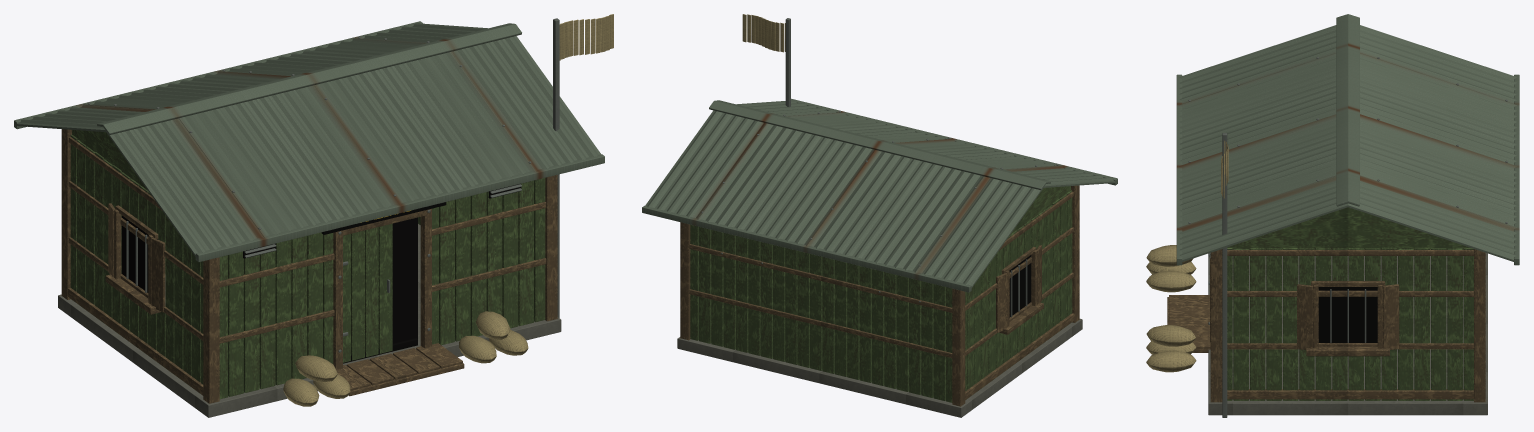
The model's file is kazerne.glb.
The picture shows the model from 3 angles, left to right: view 1: azimuth 30°, elevation 25°; view 2: azimuth 150°, elevation 25°; view 3: azimuth 270°, elevation 25°; orthographic projection. The views are drawn at different scales.
Visible parts, largest first — view 1: Kazerne_Dak, Kazerne_Wand2, Kazerne_Wand1, Kazerne_Dakrib, Kazerne_Plank1, Kazerne_Paal, Kazerne_Wand3, Kazerne_Beton, Kazerne_Donker, Kazerne_Zak, Kazerne_Metaal, Kazerne_Vlag; view 2: Kazerne_Dak, Kazerne_Wand1, Kazerne_Wand3, Kazerne_Wand2, Kazerne_Dakrib, Kazerne_Plank1, Kazerne_Beton, Kazerne_Paal, Kazerne_Vlag, Kazerne_Metaal, Kazerne_Donker; view 3: Kazerne_Dak, Kazerne_Wand1, Kazerne_Plank1, Kazerne_Wand2, Kazerne_Wand3, Kazerne_Dakrib, Kazerne_Beton, Kazerne_Paal, Kazerne_Zak, Kazerne_Donker, Kazerne_Metaal.
Boxes of the visible parts, box(x1,y1,x2,y2) form: Kazerne_Dak: box(15, 23, 600, 258); Kazerne_Wand2: box(72, 130, 518, 399); Kazerne_Wand1: box(70, 134, 533, 396); Kazerne_Dakrib: box(14, 21, 604, 261); Kazerne_Plank1: box(68, 136, 546, 396); Kazerne_Paal: box(61, 129, 557, 403); Kazerne_Wand3: box(94, 152, 545, 392); Kazerne_Beton: box(58, 224, 561, 417); Kazerne_Donker: box(121, 183, 521, 363); Kazerne_Zak: box(283, 311, 528, 406); Kazerne_Metaal: box(87, 18, 559, 352); Kazerne_Vlag: box(559, 14, 613, 60); Kazerne_Dak: box(645, 100, 1116, 289); Kazerne_Wand1: box(711, 190, 1072, 399); Kazerne_Wand3: box(699, 210, 1045, 402); Kazerne_Wand2: box(690, 186, 1070, 400); Kazerne_Dakrib: box(642, 98, 1117, 292); Kazerne_Plank1: box(689, 191, 1073, 357); Kazerne_Beton: box(677, 318, 1082, 417); Kazerne_Paal: box(680, 185, 1079, 406); Kazerne_Vlag: box(742, 14, 785, 52); Kazerne_Metaal: box(701, 18, 1058, 317); Kazerne_Donker: box(1009, 255, 1031, 317); Kazerne_Dak: box(1179, 25, 1516, 262); Kazerne_Wand1: box(1233, 247, 1462, 400); Kazerne_Plank1: box(1167, 249, 1473, 356); Kazerne_Wand2: box(1227, 207, 1470, 400); Kazerne_Wand3: box(1250, 248, 1473, 400); Kazerne_Dakrib: box(1176, 14, 1519, 265); Kazerne_Beton: box(1208, 253, 1487, 415); Kazerne_Paal: box(1210, 249, 1485, 402); Kazerne_Zak: box(1146, 245, 1196, 372); Kazerne_Donker: box(1318, 287, 1377, 342); Kazerne_Metaal: box(1188, 57, 1507, 417).
Size of the model in its own units: 5.78 by 3.8 by 4.54.
9 materials, 7 textured.
